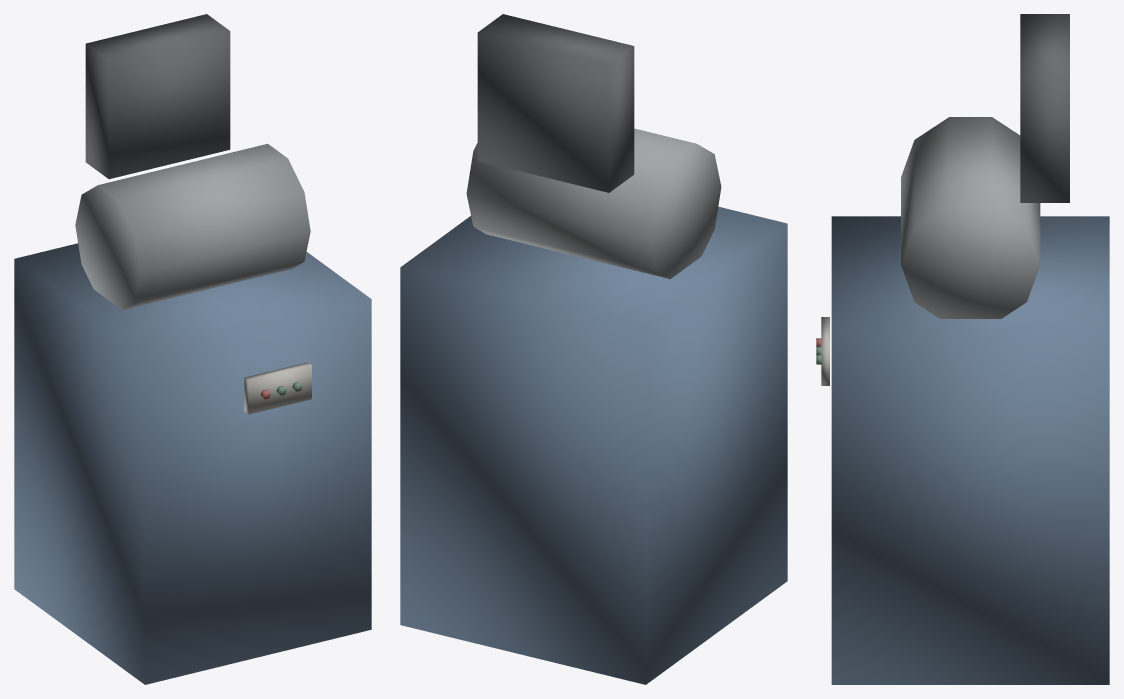
The model's file is tire_changer.glb.
3 views of the same model, side by side, from view 1: azimuth 30°, elevation 25°; view 2: azimuth 150°, elevation 25°; view 3: azimuth 270°, elevation 25° (orthographic). The views are drawn at different scales.
Visible parts, largest first — view 1: world; view 2: world; view 3: world.
Part boxes in pixels (x1,y1,x2,y2): world: (14, 14, 371, 684); world: (400, 14, 787, 684); world: (816, 14, 1109, 684).
Bounding box in the file's own units: 0.56 × 1.29 × 0.591.
